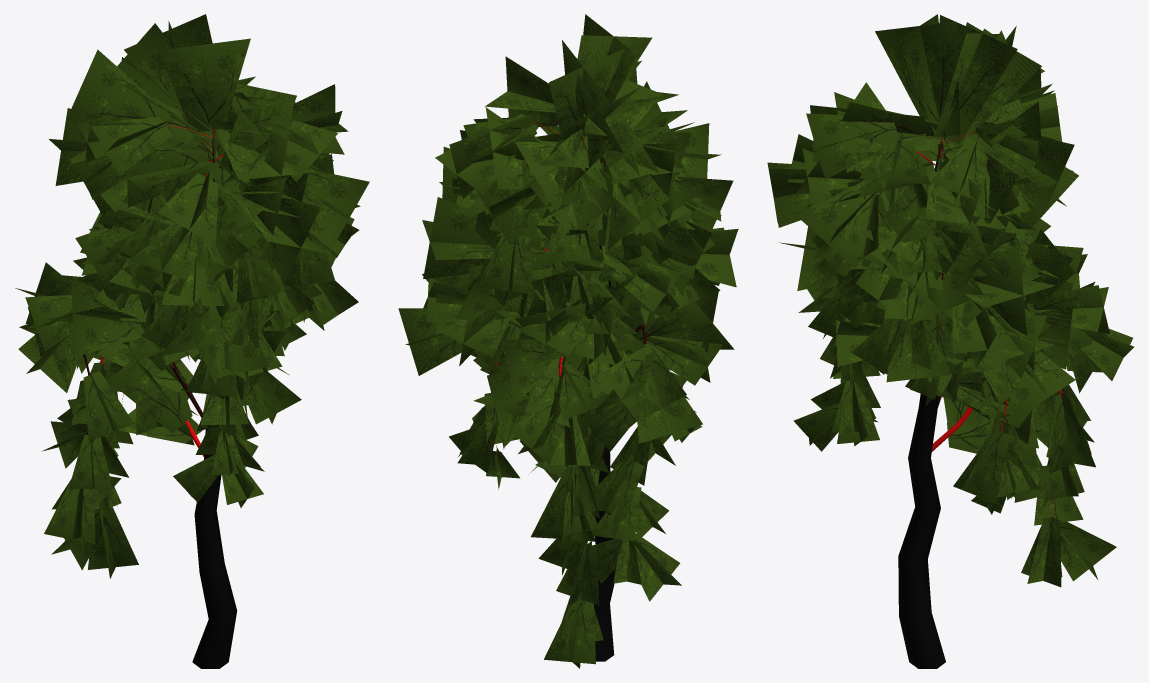
The model's file is birch 3 lod0.FBX.
The picture shows the model from 3 angles, left to right: view 1: azimuth 30°, elevation 25°; view 2: azimuth 150°, elevation 25°; view 3: azimuth 270°, elevation 25°; orthographic projection.
Parts seen in each view (by area): view 1: birch3; view 2: birch3; view 3: birch3.
Boxes of the visible parts, left/top/right/bottom form: birch3: left=15, top=14, right=369, bottom=668; birch3: left=398, top=14, right=738, bottom=668; birch3: left=767, top=14, right=1134, bottom=668.
Size of the model in its own units: 59392 by 122248 by 63506.
